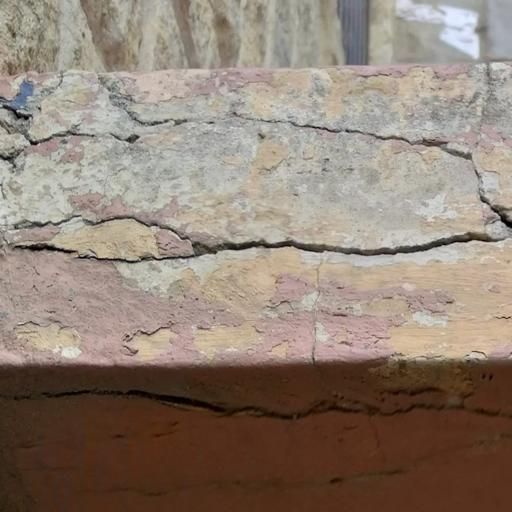major_crack: (1, 89, 512, 279), (0, 377, 512, 442)
